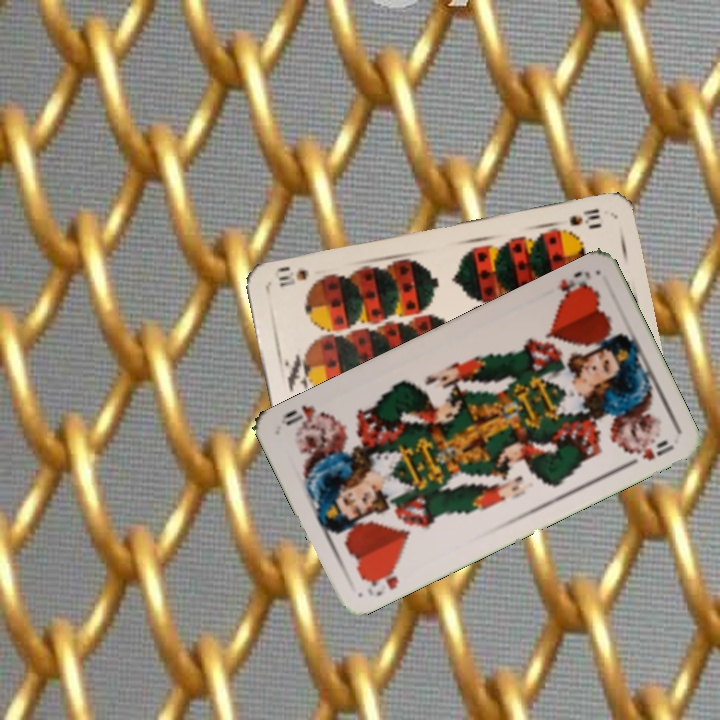HO: (359, 562, 401, 599), (554, 267, 595, 304)
S10: (565, 204, 605, 229)
